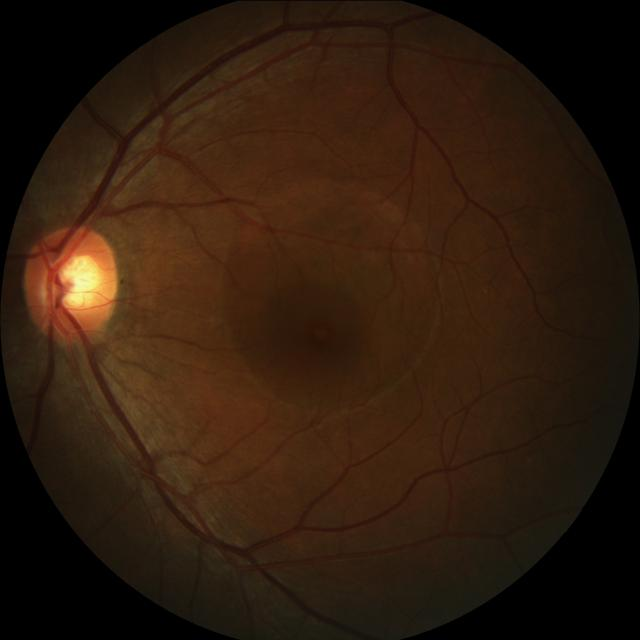OC: (47, 253, 102, 311)
OD: (22, 226, 116, 340)
